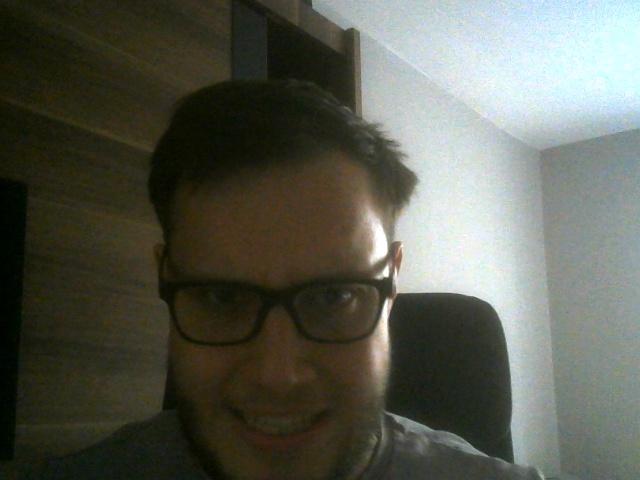angry: (143, 82, 403, 480)
